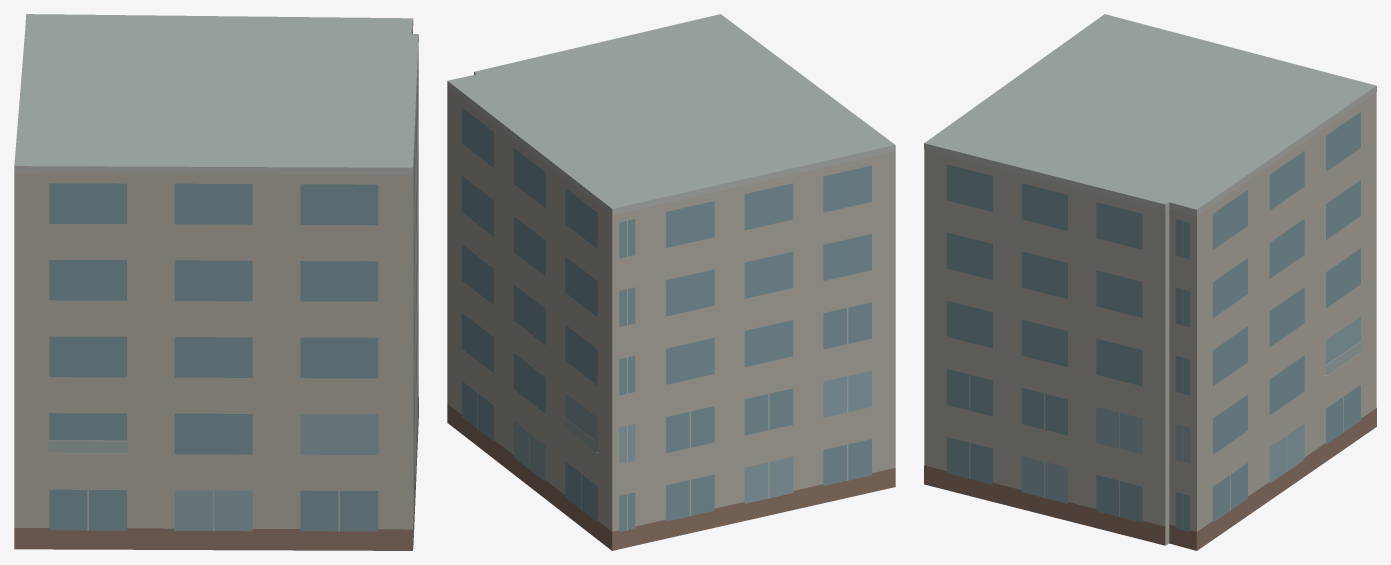
File: survey-upis-32657918.glb
The picture shows the model from 3 angles, left to right: view 1: azimuth 30°, elevation 25°; view 2: azimuth 150°, elevation 25°; view 3: azimuth 270°, elevation 25°; orthographic projection. The views are drawn at different scales.
Visible parts, largest first — view 1: survey-upis-32657918.tmp; view 2: survey-upis-32657918.tmp; view 3: survey-upis-32657918.tmp.
Part boxes in pixels (<box>): survey-upis-32657918.tmp: <box>14,14,418,550</box>; survey-upis-32657918.tmp: <box>447,14,895,550</box>; survey-upis-32657918.tmp: <box>924,14,1376,550</box>.
Size of the model in its own units: 16.5 by 13.4 by 16.12.
